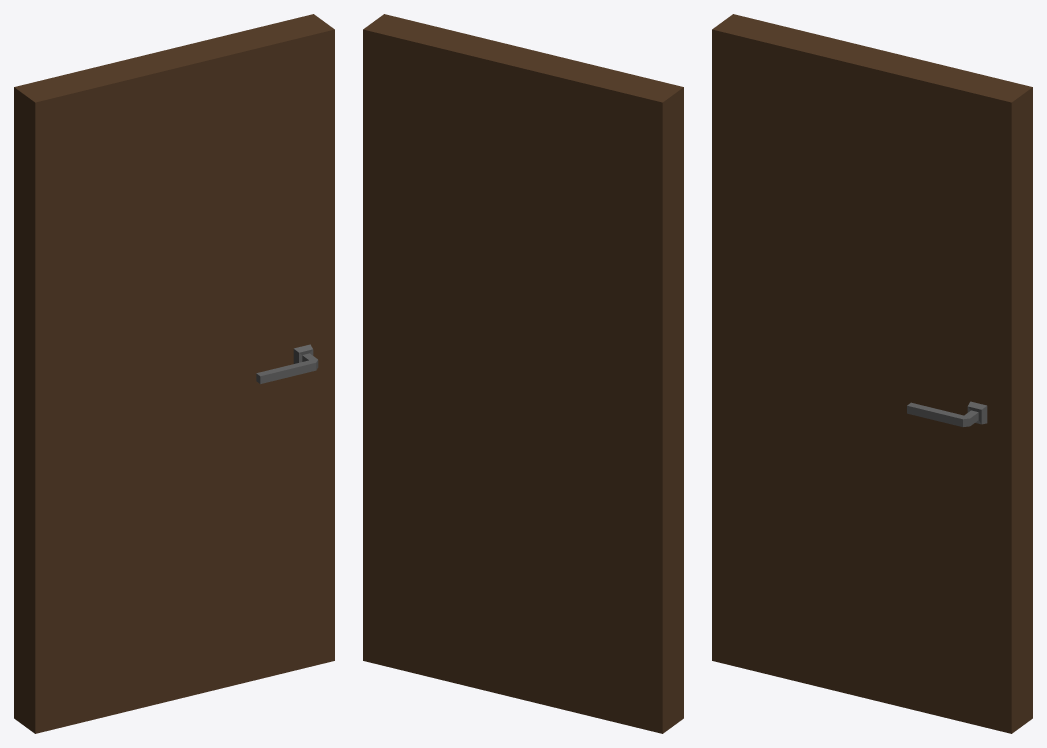
Rendered from Door.fbx.
3 renders of one model, left to right at view 1: azimuth 30°, elevation 25°; view 2: azimuth 150°, elevation 25°; view 3: azimuth 330°, elevation 25°, orthographic.
Visible parts, largest first — view 1: Cube; view 2: Cube; view 3: Cube.
Part boxes in pixels (left/top/right/bottom): Cube: left=14, top=14, right=334, bottom=733; Cube: left=363, top=14, right=683, bottom=733; Cube: left=712, top=14, right=1032, bottom=733.
Size of the model in its own units: 398 by 802 by 83.53.
